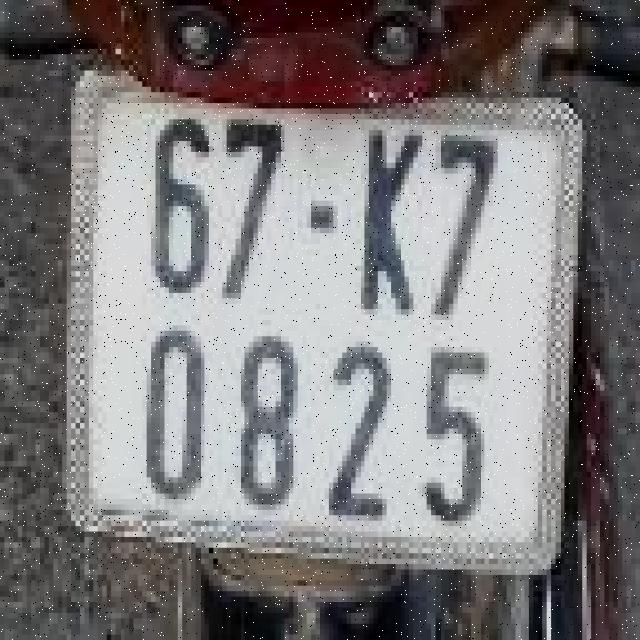0: (134, 309, 214, 515)
2: (318, 331, 398, 526)
5: (416, 331, 496, 531)
6: (144, 100, 216, 296)
7: (429, 119, 500, 320), (218, 98, 284, 309)
8: (229, 323, 304, 518)
K: (354, 117, 424, 317)
